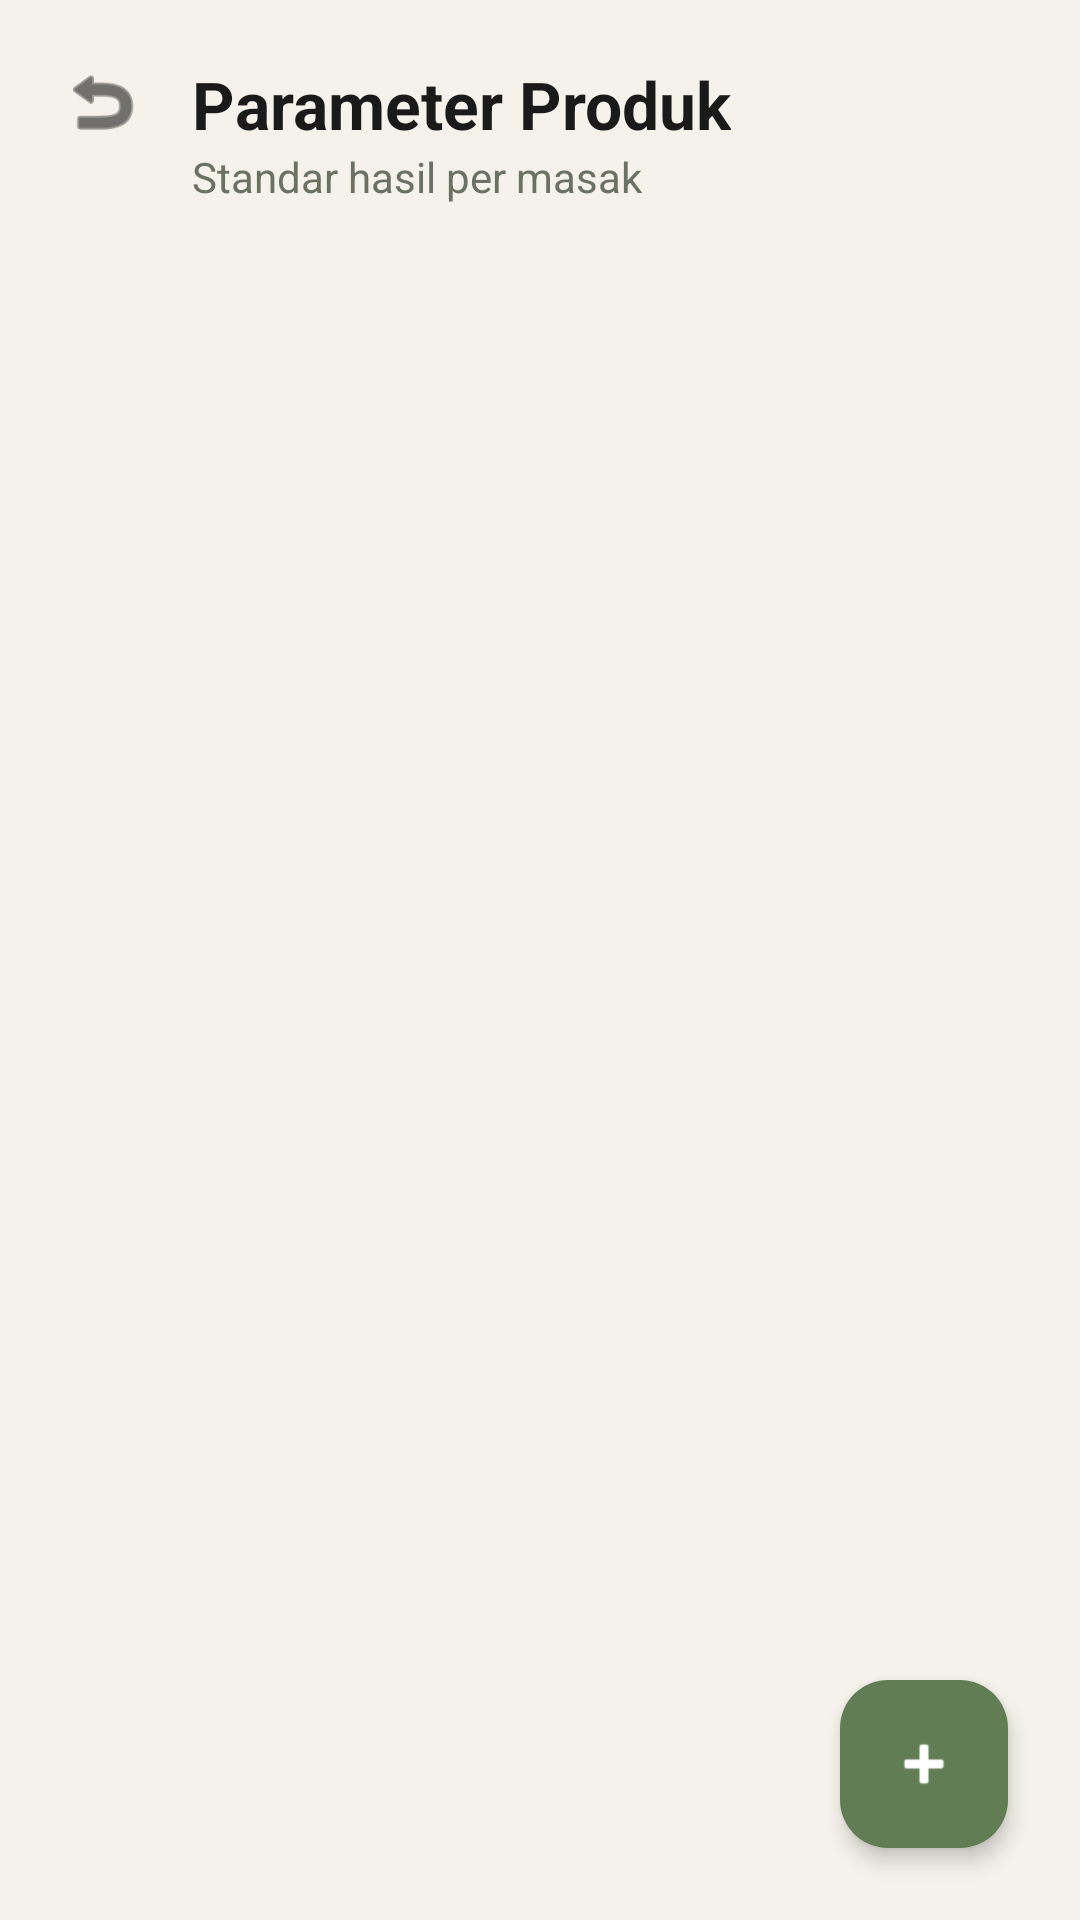

Locate icon controls on the screen. Image size 1080w x 1920h, boxes as (x1, y1, x2, y2).
add: (840, 1680, 1008, 1848)
revert: (73, 75, 133, 130)
